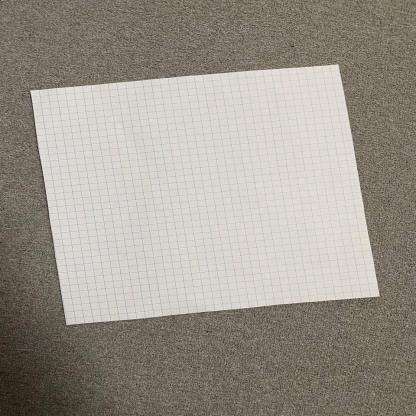grid: (21, 61, 384, 324)
